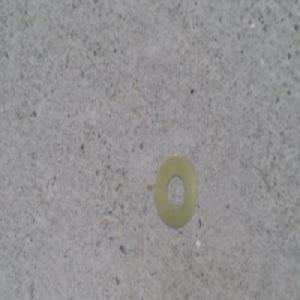Washer: (152, 149, 196, 227)
